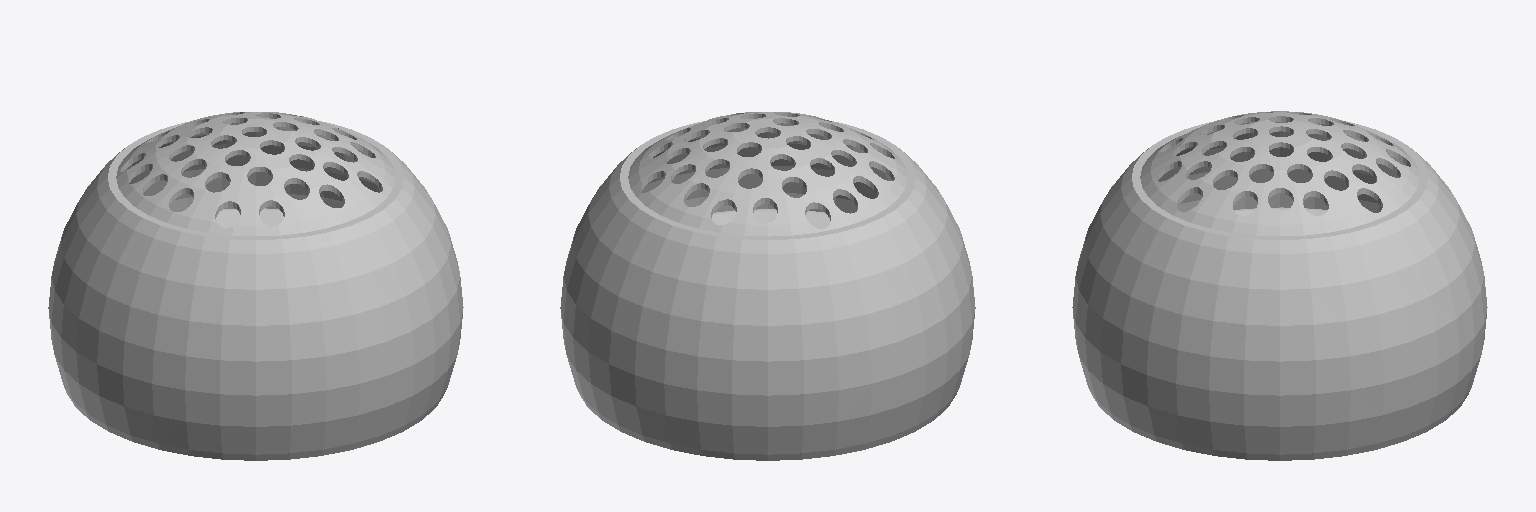
Rendered from lampe_tete.obj.
The picture shows the model from 3 angles: view 1: azimuth 30°, elevation 25°; view 2: azimuth 150°, elevation 25°; view 3: azimuth 270°, elevation 25°; orthographic projection.
Parts seen in each view (by area): view 1: Object.2, Object.3, Object.1; view 2: Object.2, Object.3, Object.1; view 3: Object.2, Object.3.
Boxes of the visible parts, x1=… form: Object.2: x1=48, y1=121, x2=463, y2=460; Object.3: x1=116, y1=112, x2=395, y2=236; Object.1: x1=216, y1=208, x2=283, y2=227; Object.2: x1=560, y1=121, x2=975, y2=460; Object.3: x1=628, y1=112, x2=907, y2=236; Object.1: x1=712, y1=209, x2=830, y2=229; Object.2: x1=1072, y1=122, x2=1487, y2=460; Object.3: x1=1140, y1=111, x2=1419, y2=236.
Size of the model in its own units: 32 by 21.08 by 32.